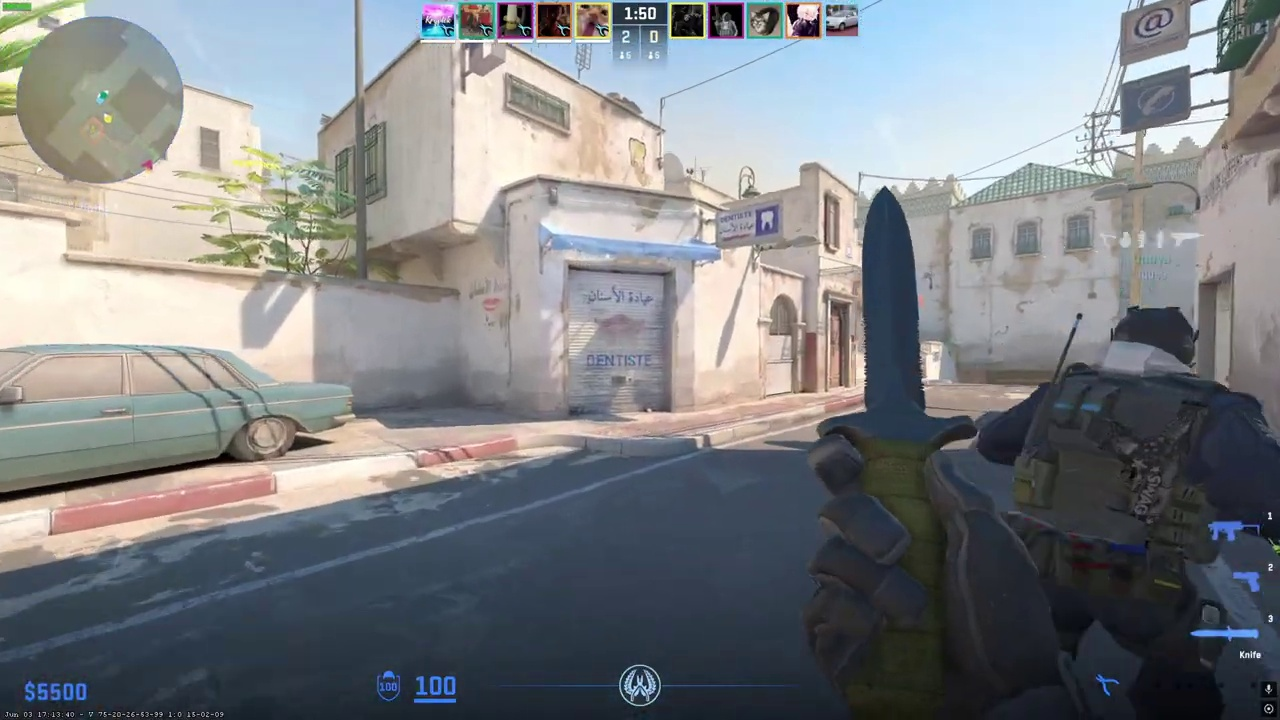CT: (1012, 309, 1280, 720)
